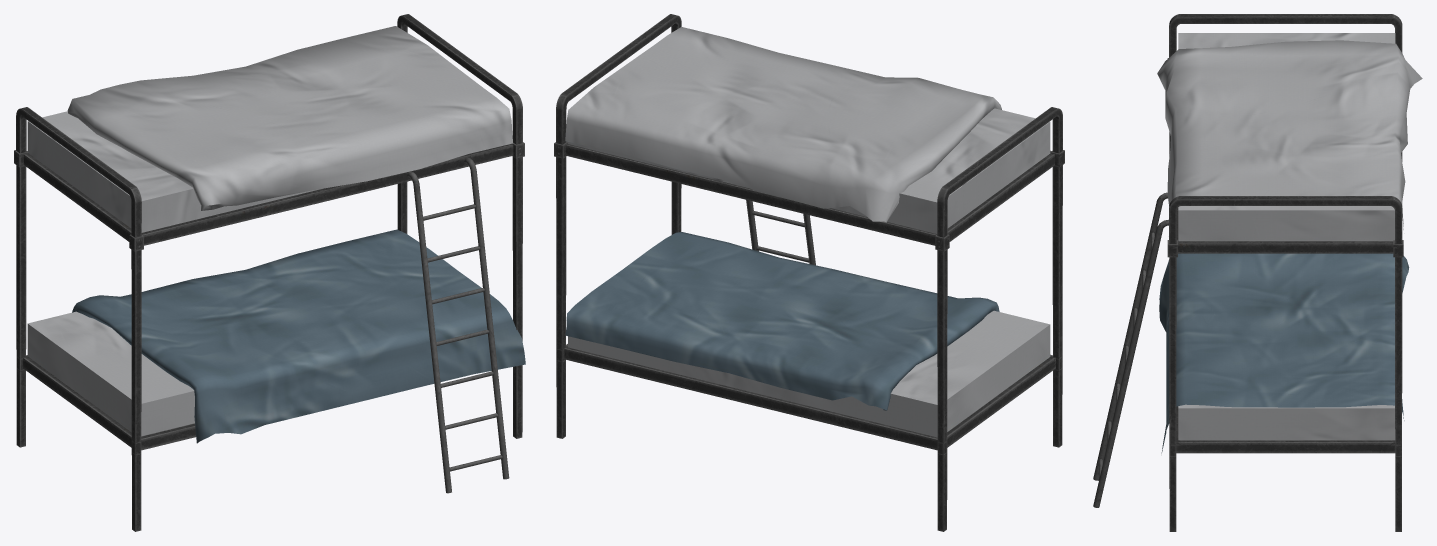
File: bunk_bed.glb
3 renders of one model, left to right at view 1: azimuth 30°, elevation 25°; view 2: azimuth 150°, elevation 25°; view 3: azimuth 270°, elevation 25°, orthographic. The views are drawn at different scales.
Visible parts, largest first — view 1: Cylinder002_Cylinder001_Cylinder002_Cylinder001; view 2: Cylinder002_Cylinder001_Cylinder002_Cylinder001; view 3: Cylinder002_Cylinder001_Cylinder002_Cylinder001.
Part boxes in pixels (box(x1,y1,x2,y2)): Cylinder002_Cylinder001_Cylinder002_Cylinder001: box(14, 14, 525, 531); Cylinder002_Cylinder001_Cylinder002_Cylinder001: box(554, 14, 1064, 531); Cylinder002_Cylinder001_Cylinder002_Cylinder001: box(1093, 14, 1422, 531).
Bounding box in the file's own units: 2 × 1.67 × 1.49.
Materials: 1 (1 with a texture image).
